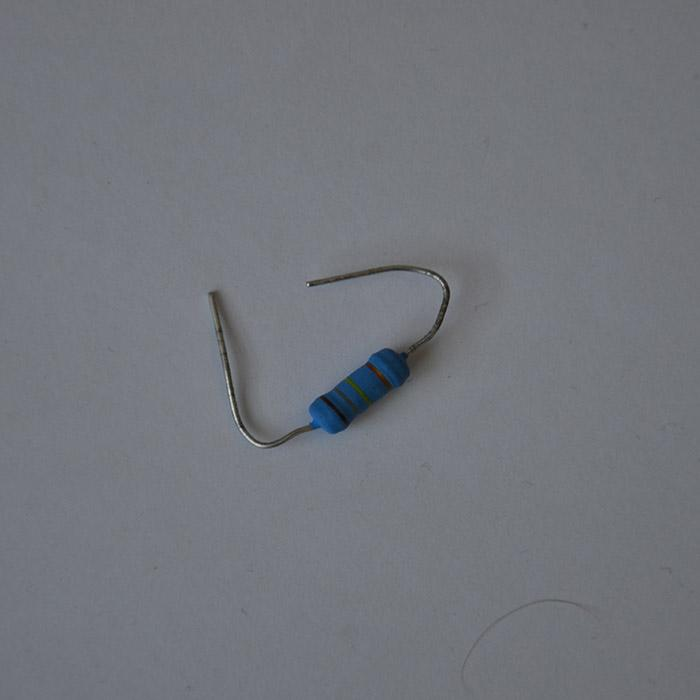resistor: (307, 345, 412, 436)
